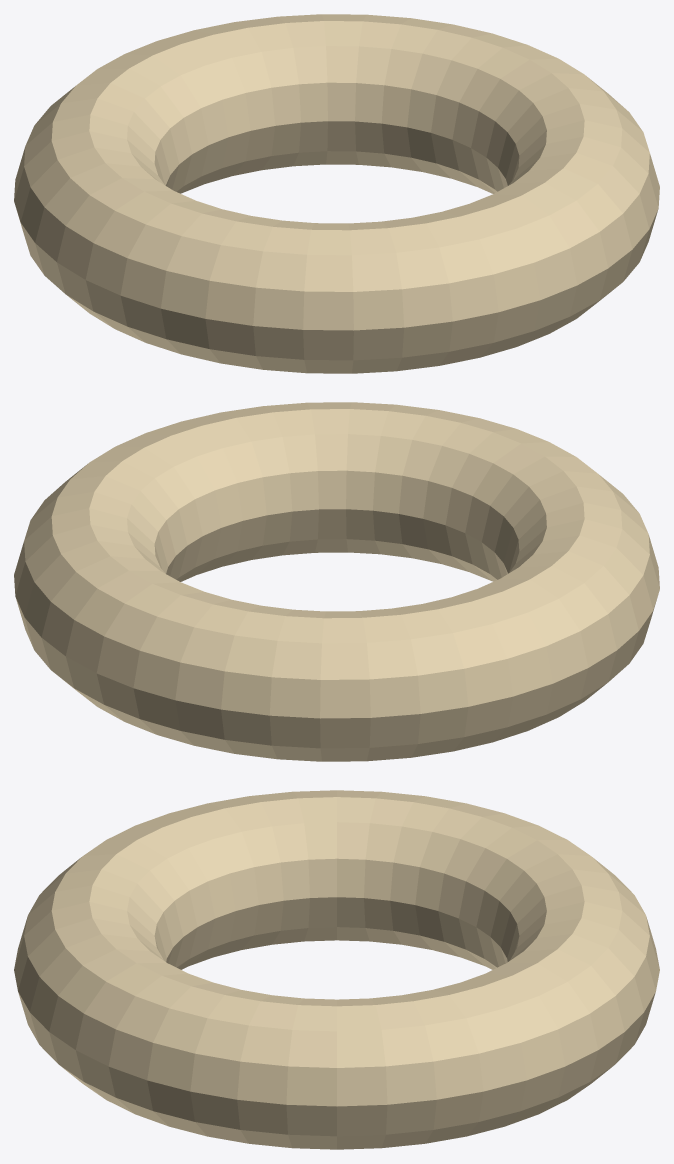
The model's file is FlotationBuoy.glb.
The picture shows the model from 3 angles, top to bottom: view 1: azimuth 30°, elevation 25°; view 2: azimuth 150°, elevation 25°; view 3: azimuth 270°, elevation 25°; orthographic projection.
Visible parts, largest first — view 1: FlotationBuoy; view 2: FlotationBuoy; view 3: FlotationBuoy.
Boxes of the visible parts, bbox=[...] form: FlotationBuoy: bbox=[14, 14, 659, 373]; FlotationBuoy: bbox=[14, 402, 659, 761]; FlotationBuoy: bbox=[14, 790, 659, 1149].
Bounding box in the file's own units: 1.2 × 0.28 × 1.2.
